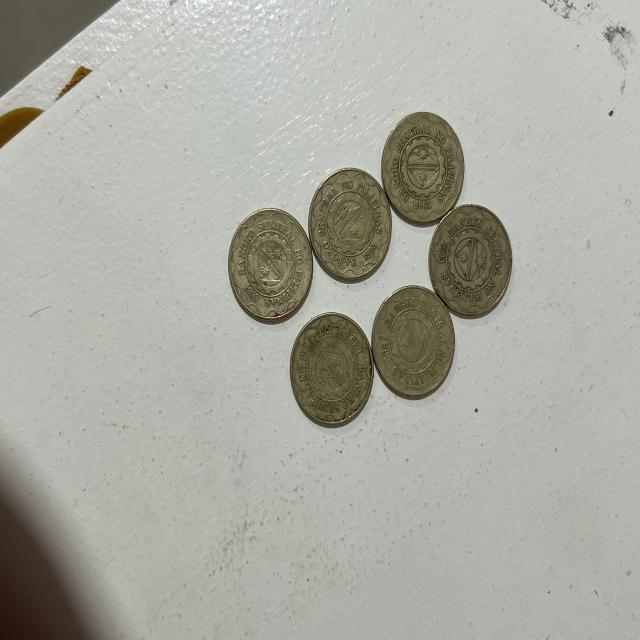5_Old_Back: (429, 202, 511, 318), (307, 167, 386, 282), (381, 110, 462, 222), (371, 291, 455, 395), (288, 320, 372, 421), (237, 212, 311, 316)
